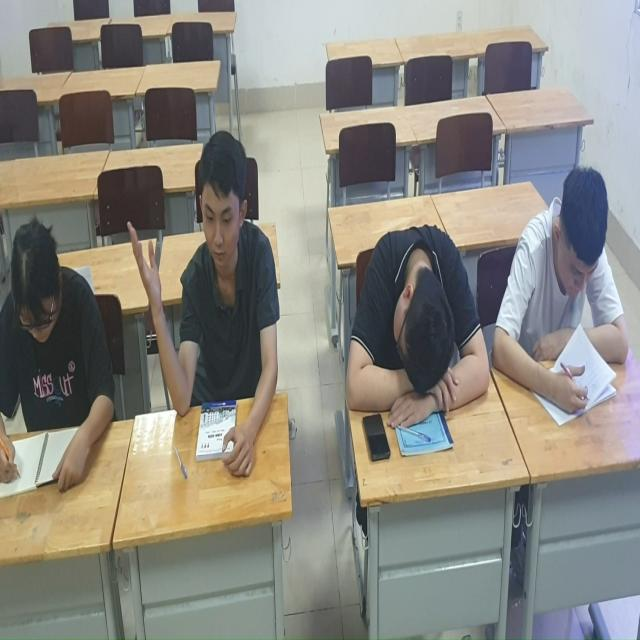raise_hand: (133, 122, 291, 472)
read: (497, 155, 633, 422), (1, 215, 115, 499)
sleep: (343, 223, 494, 446)
